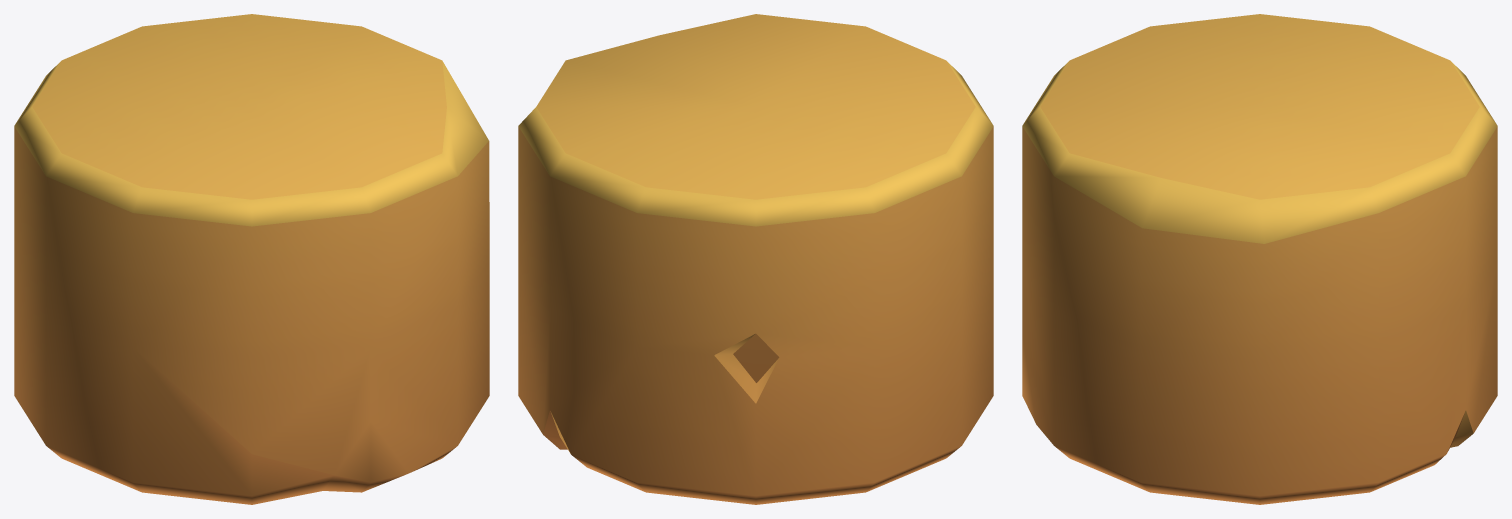
The model's file is pillar_stone2.fbx.
The picture shows the model from 3 angles, left to right: view 1: azimuth 30°, elevation 25°; view 2: azimuth 150°, elevation 25°; view 3: azimuth 270°, elevation 25°; orthographic projection.
Visible parts, largest first — view 1: pillar_stone2; view 2: pillar_stone2; view 3: pillar_stone2.
Boxes of the visible parts, left/top/right/bottom form: pillar_stone2: left=14, top=14, right=489, bottom=504; pillar_stone2: left=518, top=14, right=993, bottom=504; pillar_stone2: left=1022, top=14, right=1497, bottom=504.
Size of the model in its own units: 150 by 106 by 150.
